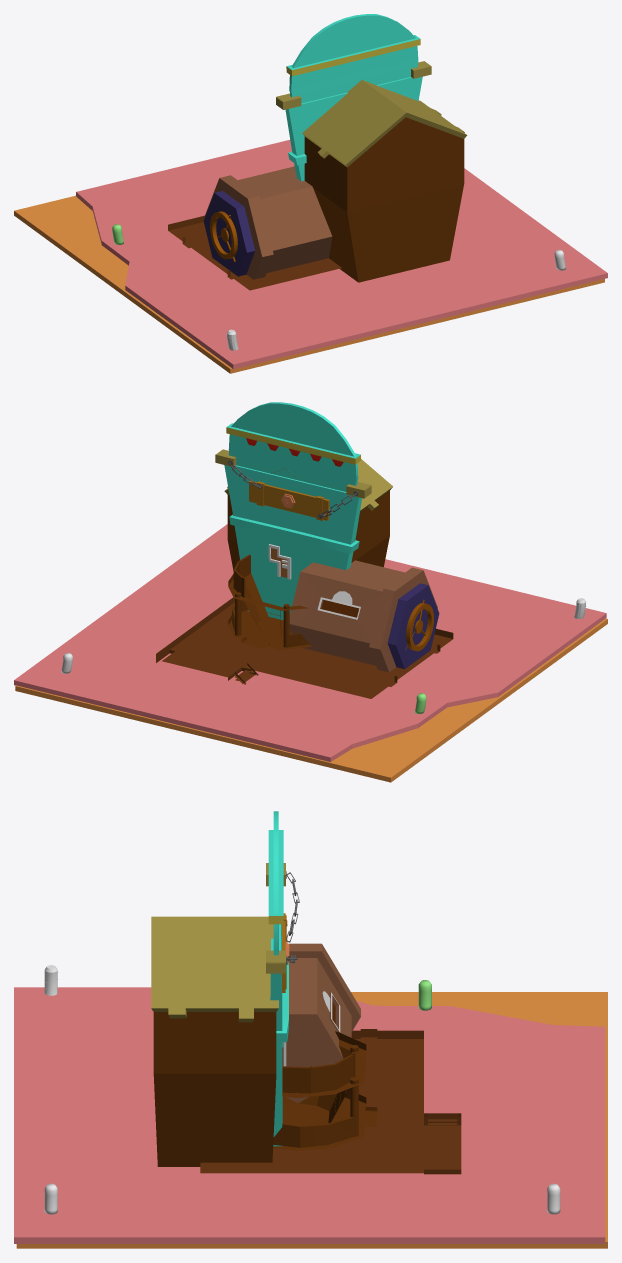
Rendered from Assignment.fbx.
The picture shows the model from 3 angles, top to bottom: view 1: azimuth 30°, elevation 25°; view 2: azimuth 150°, elevation 25°; view 3: azimuth 270°, elevation 25°; orthographic projection. The views are drawn at different scales.
Visible parts, largest first — view 1: Plane.006, Cube.005, Plane.007, Cylinder.003, Plane.002, Plane.003, Circle.001; view 2: Plane.006, Plane.007, Cylinder.003, Plane.003, Plane.002, Cube.005, Plane.005, Cylinder.007, Cylinder.004, Circle.001, Plane.004; view 3: Plane.006, Cube.005, Plane.003, Plane.002, Cylinder.003, Cylinder.007, Plane.007, Cylinder.006, Cylinder.004.
Boxes of the visible parts, left/top/right/bottom form: Plane.006: left=76, top=140, right=607, bottom=369; Cube.005: left=302, top=80, right=467, bottom=282; Plane.007: left=285, top=14, right=422, bottom=181; Cylinder.003: left=203, top=166, right=332, bottom=279; Plane.002: left=14, top=195, right=604, bottom=373; Plane.003: left=168, top=215, right=341, bottom=290; Circle.001: left=210, top=211, right=237, bottom=259; Plane.006: left=14, top=524, right=606, bottom=761; Plane.007: left=224, top=402, right=361, bottom=620; Cylinder.003: left=289, top=560, right=439, bottom=672; Plane.003: left=156, top=597, right=453, bottom=698; Plane.002: left=15, top=618, right=607, bottom=782; Cube.005: left=224, top=459, right=392, bottom=570; Plane.005: left=249, top=480, right=329, bottom=520; Cylinder.007: left=228, top=554, right=308, bottom=636; Cylinder.004: left=228, top=609, right=311, bottom=649; Circle.001: left=406, top=603, right=434, bottom=651; Plane.004: left=268, top=544, right=291, bottom=579; Plane.006: left=14, top=987, right=605, bottom=1243; Cube.005: left=151, top=916, right=278, bottom=1166; Plane.003: left=200, top=1029, right=461, bottom=1174; Plane.002: left=16, top=992, right=607, bottom=1248; Cylinder.003: left=282, top=943, right=360, bottom=1103; Cylinder.007: left=282, top=1031, right=366, bottom=1122; Plane.007: left=268, top=811, right=288, bottom=1146; Cylinder.006: left=273, top=1077, right=358, bottom=1147; Cylinder.004: left=273, top=1094, right=377, bottom=1150.
Size of the model in its own units: 1111 by 678 by 1110.
